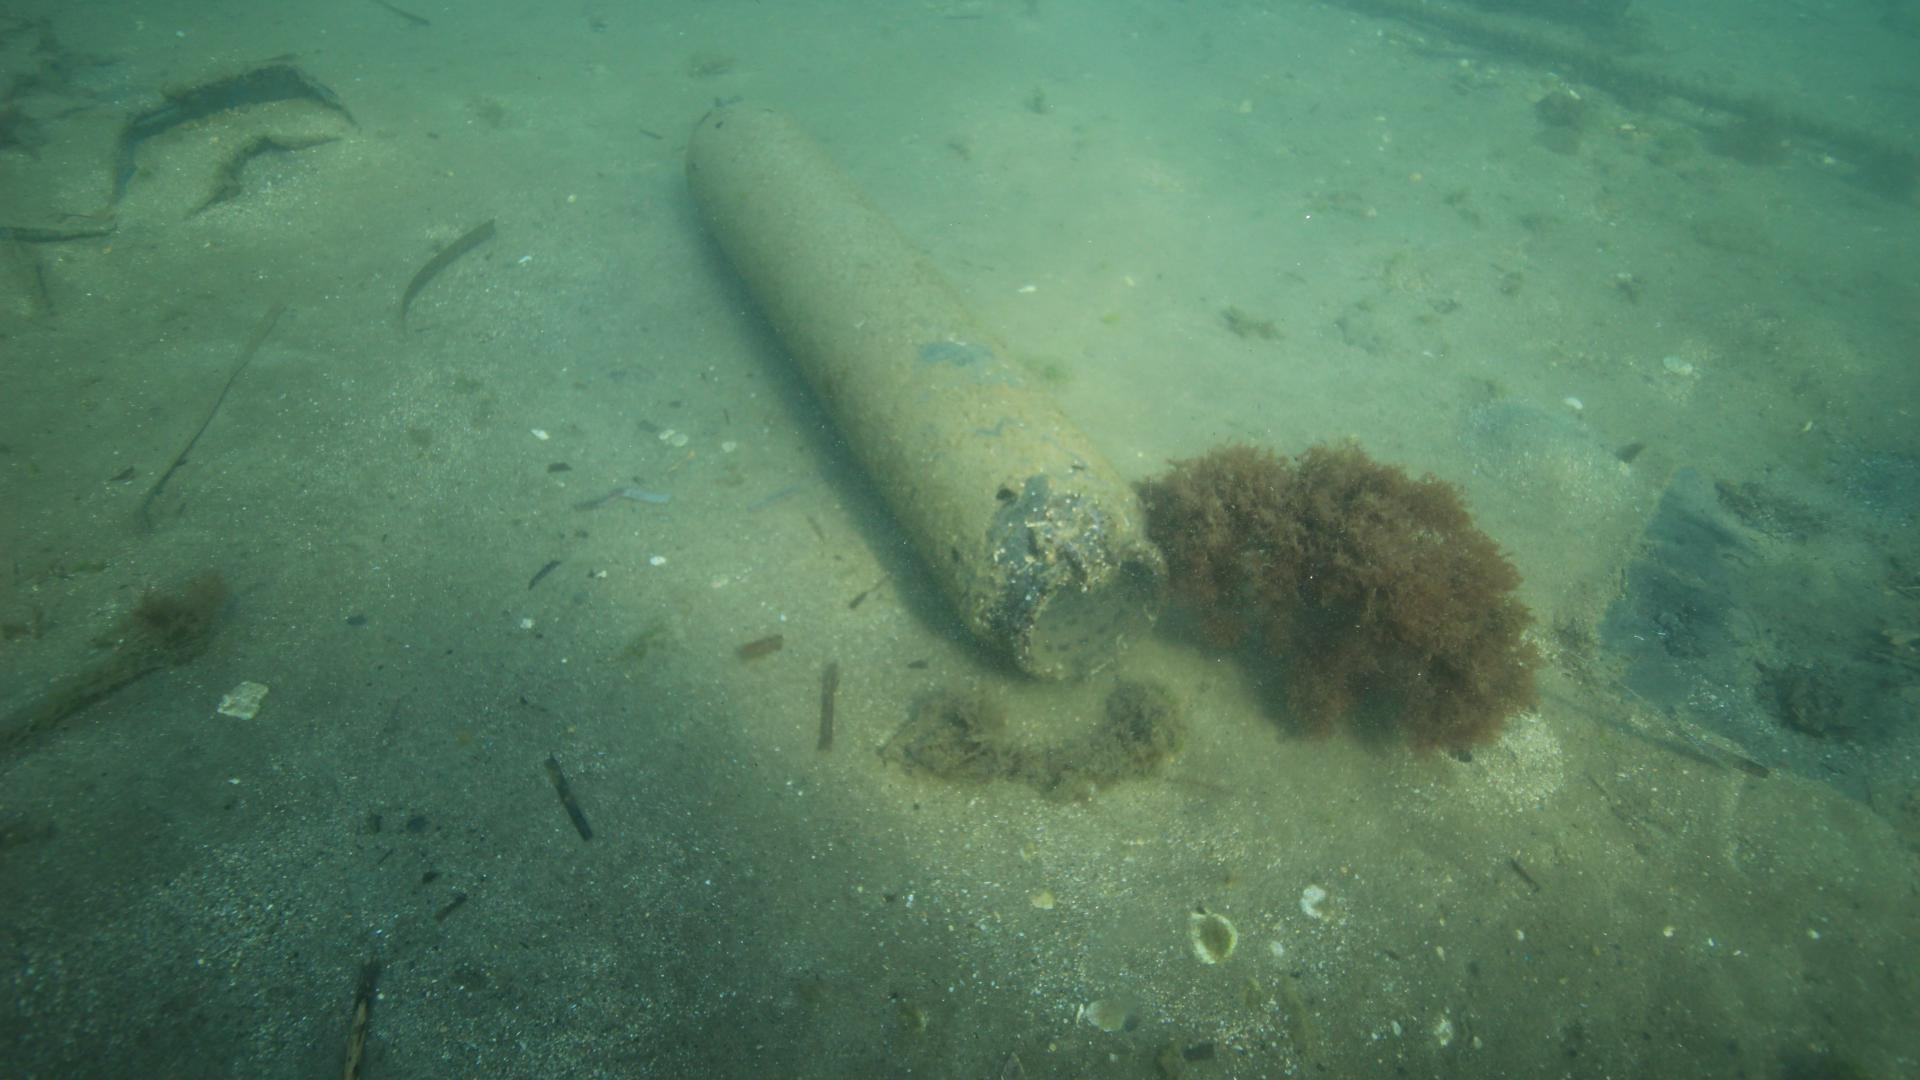eel fish trap: (686, 94, 1168, 686)
